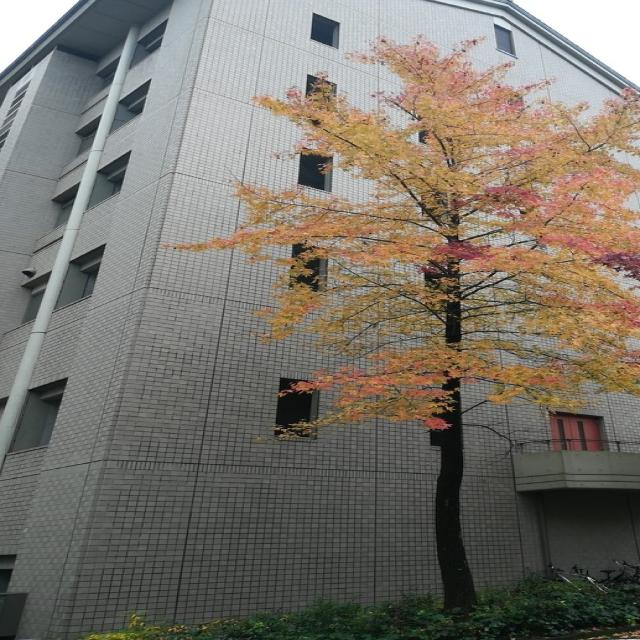ginkgo: (164, 29, 640, 609)
